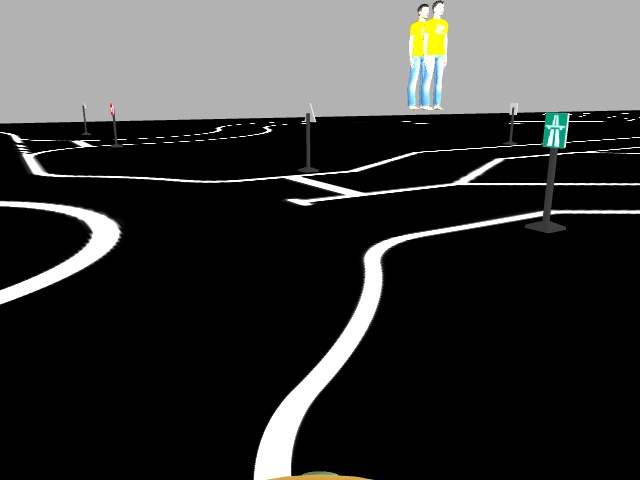HighwayEntrance: (540, 111, 570, 151)
